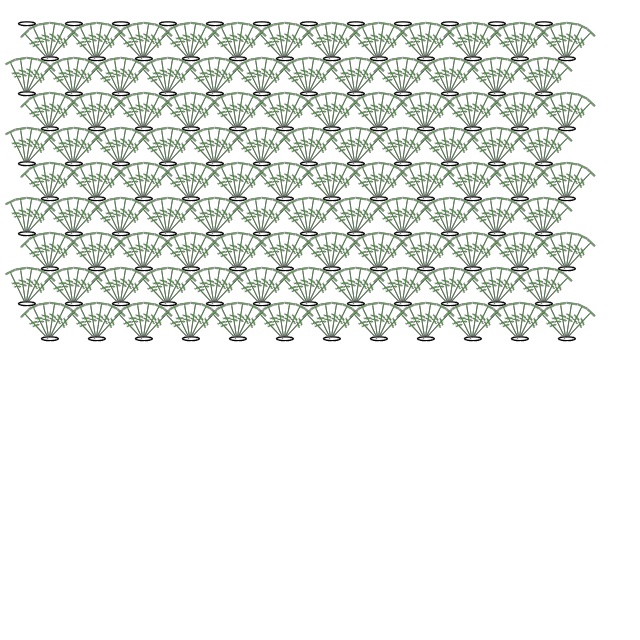chain: (16, 20, 38, 28), (63, 20, 85, 28), (110, 20, 132, 28), (157, 20, 179, 28), (204, 20, 226, 28), (251, 20, 273, 28), (298, 20, 320, 28), (345, 20, 367, 28), (392, 20, 414, 28), (439, 20, 461, 28), (486, 20, 508, 28), (533, 20, 555, 28), (39, 55, 61, 63), (86, 55, 108, 63), (133, 55, 155, 63), (180, 55, 202, 63), (227, 55, 249, 63), (274, 55, 296, 63), (321, 55, 343, 63), (368, 55, 390, 63), (415, 55, 437, 63), (462, 55, 484, 63), (509, 55, 531, 63), (556, 55, 578, 63), (16, 90, 38, 98), (63, 90, 85, 98), (110, 90, 132, 98), (157, 90, 179, 98), (204, 90, 226, 98), (251, 90, 273, 98), (298, 90, 320, 98), (345, 90, 367, 98), (392, 90, 414, 98), (439, 90, 461, 98), (486, 90, 508, 98), (533, 90, 555, 98), (39, 125, 61, 133), (86, 125, 108, 133), (133, 125, 155, 133), (180, 125, 202, 133), (227, 125, 249, 133), (274, 125, 296, 133), (321, 125, 343, 133), (368, 125, 390, 133), (415, 125, 437, 133), (462, 125, 484, 133), (509, 125, 531, 133), (556, 125, 578, 133), (16, 160, 38, 168), (63, 160, 85, 168), (110, 160, 132, 168), (157, 160, 179, 168), (204, 160, 226, 168), (251, 160, 273, 168), (298, 160, 320, 168), (345, 160, 367, 168), (392, 160, 414, 168), (439, 160, 461, 168), (486, 160, 508, 168), (533, 160, 555, 168), (39, 195, 61, 203), (86, 195, 108, 203), (133, 195, 155, 203), (180, 195, 202, 203), (227, 195, 249, 203), (274, 195, 296, 203), (321, 195, 343, 203), (368, 195, 390, 203), (415, 195, 437, 203), (462, 195, 484, 203), (509, 195, 531, 203), (556, 195, 578, 203), (16, 230, 38, 238), (63, 230, 85, 238), (110, 230, 132, 238), (157, 230, 179, 238), (204, 230, 226, 238), (251, 230, 273, 238), (298, 230, 320, 238), (345, 230, 367, 238), (392, 230, 414, 238), (439, 230, 461, 238), (486, 230, 508, 238), (533, 230, 555, 238), (39, 265, 61, 273), (86, 265, 108, 273), (133, 265, 155, 273), (180, 265, 202, 273), (227, 265, 249, 273), (274, 265, 296, 273), (321, 265, 343, 273), (368, 265, 390, 273), (415, 265, 437, 273), (462, 265, 484, 273), (509, 265, 531, 273), (556, 265, 578, 273), (16, 300, 38, 308), (63, 300, 85, 308), (110, 300, 132, 308), (157, 300, 179, 308), (204, 300, 226, 308), (251, 300, 273, 308), (298, 300, 320, 308), (345, 300, 367, 308), (392, 300, 414, 308), (439, 300, 461, 308), (486, 300, 508, 308), (533, 300, 555, 308), (39, 335, 61, 343), (86, 335, 108, 343), (133, 335, 155, 343), (180, 335, 202, 343), (227, 335, 249, 343), (274, 335, 296, 343), (321, 335, 343, 343), (368, 335, 390, 343), (415, 335, 437, 343), (462, 335, 484, 343), (509, 335, 531, 343), (556, 335, 578, 343)
fan: (20, 27, 55, 64), (45, 27, 80, 64), (67, 27, 102, 64), (92, 27, 127, 64), (114, 27, 149, 64), (139, 27, 174, 64), (161, 27, 196, 64), (186, 27, 221, 64), (208, 27, 243, 64), (233, 27, 268, 64), (255, 27, 290, 64), (280, 27, 315, 64), (302, 27, 337, 64), (327, 27, 362, 64), (349, 27, 384, 64), (374, 27, 409, 64), (396, 27, 431, 64), (421, 27, 456, 64), (443, 27, 478, 64), (468, 27, 503, 64), (490, 27, 525, 64), (515, 27, 550, 64), (537, 27, 572, 64), (562, 27, 597, 64), (22, 62, 57, 99), (44, 62, 79, 99), (69, 62, 104, 99), (91, 62, 126, 99), (116, 62, 151, 99), (138, 62, 173, 99), (163, 62, 198, 99), (185, 62, 220, 99), (210, 62, 245, 99), (232, 62, 267, 99), (257, 62, 292, 99), (279, 62, 314, 99), (304, 62, 339, 99), (326, 62, 361, 99), (351, 62, 386, 99), (373, 62, 408, 99), (398, 62, 433, 99), (420, 62, 455, 99), (445, 62, 480, 99), (467, 62, 502, 99), (492, 62, 527, 99), (514, 62, 549, 99), (539, 62, 574, 99), (20, 97, 55, 134), (45, 97, 80, 134), (67, 97, 102, 134), (92, 97, 127, 134), (114, 97, 149, 134), (139, 97, 174, 134), (161, 97, 196, 134), (186, 97, 221, 134), (208, 97, 243, 134), (233, 97, 268, 134), (255, 97, 290, 134), (280, 97, 315, 134), (302, 97, 337, 134), (327, 97, 362, 134), (349, 97, 384, 134), (374, 97, 409, 134), (396, 97, 431, 134), (421, 97, 456, 134), (443, 97, 478, 134), (468, 97, 503, 134), (490, 97, 525, 134), (515, 97, 550, 134), (537, 97, 572, 134), (562, 97, 597, 134), (22, 132, 57, 169), (44, 132, 79, 169), (69, 132, 104, 169), (91, 132, 126, 169), (116, 132, 151, 169), (138, 132, 173, 169), (163, 132, 198, 169), (185, 132, 220, 169), (210, 132, 245, 169), (232, 132, 267, 169), (257, 132, 292, 169), (279, 132, 314, 169), (304, 132, 339, 169), (326, 132, 361, 169), (351, 132, 386, 169), (373, 132, 408, 169), (398, 132, 433, 169), (420, 132, 455, 169), (445, 132, 480, 169), (467, 132, 502, 169), (492, 132, 527, 169), (514, 132, 549, 169), (539, 132, 574, 169), (20, 167, 55, 204), (45, 167, 80, 204), (67, 167, 102, 204), (92, 167, 127, 204), (114, 167, 149, 204), (139, 167, 174, 204), (161, 167, 196, 204), (186, 167, 221, 204), (208, 167, 243, 204), (233, 167, 268, 204), (255, 167, 290, 204), (280, 167, 315, 204), (302, 167, 337, 204), (327, 167, 362, 204), (349, 167, 384, 204), (374, 167, 409, 204), (396, 167, 431, 204), (421, 167, 456, 204), (443, 167, 478, 204), (468, 167, 503, 204), (490, 167, 525, 204), (515, 167, 550, 204), (537, 167, 572, 204), (562, 167, 597, 204), (22, 202, 57, 239), (44, 202, 79, 239), (69, 202, 104, 239), (91, 202, 126, 239), (116, 202, 151, 239), (138, 202, 173, 239), (163, 202, 198, 239), (185, 202, 220, 239), (210, 202, 245, 239), (232, 202, 267, 239), (257, 202, 292, 239), (279, 202, 314, 239), (304, 202, 339, 239), (326, 202, 361, 239), (351, 202, 386, 239), (373, 202, 408, 239), (398, 202, 433, 239), (420, 202, 455, 239), (445, 202, 480, 239), (467, 202, 502, 239), (492, 202, 527, 239), (514, 202, 549, 239), (539, 202, 574, 239), (20, 237, 55, 274), (45, 237, 80, 274), (67, 237, 102, 274), (92, 237, 127, 274), (114, 237, 149, 274), (139, 237, 174, 274), (161, 237, 196, 274), (186, 237, 221, 274), (208, 237, 243, 274), (233, 237, 268, 274), (255, 237, 290, 274), (280, 237, 315, 274), (302, 237, 337, 274), (327, 237, 362, 274), (349, 237, 384, 274), (374, 237, 409, 274), (396, 237, 431, 274), (421, 237, 456, 274), (443, 237, 478, 274), (468, 237, 503, 274), (490, 237, 525, 274), (515, 237, 550, 274), (537, 237, 572, 274), (562, 237, 597, 274), (22, 272, 57, 309), (44, 272, 79, 309), (69, 272, 104, 309), (91, 272, 126, 309), (116, 272, 151, 309), (138, 272, 173, 309), (163, 272, 198, 309), (185, 272, 220, 309), (210, 272, 245, 309), (232, 272, 267, 309), (257, 272, 292, 309), (279, 272, 314, 309), (304, 272, 339, 309), (326, 272, 361, 309), (351, 272, 386, 309), (373, 272, 408, 309), (398, 272, 433, 309), (420, 272, 455, 309), (445, 272, 480, 309), (467, 272, 502, 309), (492, 272, 527, 309), (514, 272, 549, 309), (539, 272, 574, 309), (20, 307, 55, 344), (45, 307, 80, 344), (67, 307, 102, 344), (92, 307, 127, 344), (114, 307, 149, 344), (139, 307, 174, 344), (161, 307, 196, 344), (186, 307, 221, 344), (208, 307, 243, 344), (233, 307, 268, 344), (255, 307, 290, 344), (280, 307, 315, 344), (302, 307, 337, 344), (327, 307, 362, 344), (349, 307, 384, 344), (374, 307, 409, 344), (396, 307, 431, 344), (421, 307, 456, 344), (443, 307, 478, 344), (468, 307, 503, 344), (490, 307, 525, 344), (515, 307, 550, 344), (537, 307, 572, 344), (562, 307, 597, 344), (28, 23, 56, 62), (44, 23, 72, 62), (75, 23, 103, 62), (91, 23, 119, 62), (122, 23, 150, 62), (138, 23, 166, 62), (169, 23, 197, 62), (185, 23, 213, 62), (216, 23, 244, 62), (232, 23, 260, 62), (263, 23, 291, 62), (279, 23, 307, 62), (310, 23, 338, 62), (326, 23, 354, 62), (357, 23, 385, 62), (373, 23, 401, 62), (404, 23, 432, 62), (420, 23, 448, 62), (451, 23, 479, 62), (467, 23, 495, 62), (498, 23, 526, 62), (514, 23, 542, 62), (545, 23, 573, 62), (561, 23, 589, 62), (5, 58, 33, 97), (21, 58, 49, 97), (52, 58, 80, 97), (68, 58, 96, 97), (99, 58, 127, 97), (115, 58, 143, 97), (146, 58, 174, 97), (162, 58, 190, 97), (193, 58, 221, 97), (209, 58, 237, 97), (240, 58, 268, 97), (256, 58, 284, 97), (287, 58, 315, 97), (303, 58, 331, 97), (334, 58, 362, 97), (350, 58, 378, 97), (381, 58, 409, 97), (397, 58, 425, 97), (428, 58, 456, 97), (444, 58, 472, 97), (475, 58, 503, 97), (491, 58, 519, 97), (522, 58, 550, 97), (538, 58, 566, 97), (28, 93, 56, 132), (44, 93, 72, 132), (75, 93, 103, 132), (91, 93, 119, 132), (122, 93, 150, 132), (138, 93, 166, 132), (169, 93, 197, 132), (185, 93, 213, 132), (216, 93, 244, 132), (232, 93, 260, 132), (263, 93, 291, 132), (279, 93, 307, 132), (310, 93, 338, 132), (326, 93, 354, 132), (357, 93, 385, 132), (373, 93, 401, 132), (404, 93, 432, 132), (420, 93, 448, 132), (451, 93, 479, 132), (467, 93, 495, 132), (498, 93, 526, 132), (514, 93, 542, 132), (545, 93, 573, 132), (561, 93, 589, 132), (5, 128, 33, 167), (21, 128, 49, 167), (52, 128, 80, 167), (68, 128, 96, 167), (99, 128, 127, 167), (115, 128, 143, 167), (146, 128, 174, 167), (162, 128, 190, 167), (193, 128, 221, 167), (209, 128, 237, 167), (240, 128, 268, 167), (256, 128, 284, 167), (287, 128, 315, 167), (303, 128, 331, 167), (334, 128, 362, 167), (350, 128, 378, 167), (381, 128, 409, 167), (397, 128, 425, 167), (428, 128, 456, 167), (444, 128, 472, 167), (475, 128, 503, 167), (491, 128, 519, 167), (522, 128, 550, 167), (538, 128, 566, 167), (28, 163, 56, 202), (44, 163, 72, 202), (75, 163, 103, 202), (91, 163, 119, 202), (122, 163, 150, 202), (138, 163, 166, 202), (169, 163, 197, 202), (185, 163, 213, 202), (216, 163, 244, 202), (232, 163, 260, 202), (263, 163, 291, 202), (279, 163, 307, 202), (310, 163, 338, 202), (326, 163, 354, 202), (357, 163, 385, 202), (373, 163, 401, 202), (404, 163, 432, 202), (420, 163, 448, 202), (451, 163, 479, 202), (467, 163, 495, 202), (498, 163, 526, 202), (514, 163, 542, 202), (545, 163, 573, 202), (561, 163, 589, 202), (5, 198, 33, 237), (21, 198, 49, 237), (52, 198, 80, 237), (68, 198, 96, 237), (99, 198, 127, 237), (115, 198, 143, 237), (146, 198, 174, 237), (162, 198, 190, 237), (193, 198, 221, 237), (209, 198, 237, 237), (240, 198, 268, 237), (256, 198, 284, 237), (287, 198, 315, 237), (303, 198, 331, 237), (334, 198, 362, 237), (350, 198, 378, 237), (381, 198, 409, 237), (397, 198, 425, 237), (428, 198, 456, 237), (444, 198, 472, 237), (475, 198, 503, 237), (491, 198, 519, 237), (522, 198, 550, 237), (538, 198, 566, 237), (28, 233, 56, 272), (44, 233, 72, 272), (75, 233, 103, 272), (91, 233, 119, 272), (122, 233, 150, 272), (138, 233, 166, 272), (169, 233, 197, 272), (185, 233, 213, 272), (216, 233, 244, 272), (232, 233, 260, 272), (263, 233, 291, 272), (279, 233, 307, 272), (310, 233, 338, 272), (326, 233, 354, 272), (357, 233, 385, 272), (373, 233, 401, 272), (404, 233, 432, 272), (420, 233, 448, 272), (451, 233, 479, 272), (467, 233, 495, 272), (498, 233, 526, 272), (514, 233, 542, 272), (545, 233, 573, 272), (561, 233, 589, 272), (5, 268, 33, 307), (21, 268, 49, 307), (52, 268, 80, 307), (68, 268, 96, 307), (99, 268, 127, 307), (115, 268, 143, 307), (146, 268, 174, 307), (162, 268, 190, 307), (193, 268, 221, 307), (209, 268, 237, 307), (240, 268, 268, 307), (256, 268, 284, 307), (287, 268, 315, 307), (303, 268, 331, 307), (334, 268, 362, 307), (350, 268, 378, 307), (381, 268, 409, 307), (397, 268, 425, 307), (428, 268, 456, 307), (444, 268, 472, 307), (475, 268, 503, 307), (491, 268, 519, 307), (522, 268, 550, 307), (538, 268, 566, 307), (28, 303, 56, 342), (44, 303, 72, 342), (75, 303, 103, 342), (91, 303, 119, 342), (122, 303, 150, 342), (138, 303, 166, 342), (169, 303, 197, 342), (185, 303, 213, 342), (216, 303, 244, 342), (232, 303, 260, 342), (263, 303, 291, 342), (279, 303, 307, 342), (310, 303, 338, 342), (326, 303, 354, 342), (357, 303, 385, 342), (373, 303, 401, 342), (404, 303, 432, 342), (420, 303, 448, 342), (451, 303, 479, 342), (467, 303, 495, 342), (498, 303, 526, 342), (514, 303, 542, 342), (545, 303, 573, 342), (561, 303, 589, 342), (38, 21, 57, 60), (43, 21, 62, 60), (85, 21, 104, 60), (90, 21, 109, 60), (132, 21, 151, 60), (137, 21, 156, 60), (179, 21, 198, 60), (184, 21, 203, 60), (226, 21, 245, 60), (231, 21, 250, 60), (273, 21, 292, 60), (278, 21, 297, 60), (320, 21, 339, 60), (325, 21, 344, 60), (367, 21, 386, 60), (372, 21, 391, 60), (414, 21, 433, 60), (419, 21, 438, 60), (461, 21, 480, 60), (466, 21, 485, 60), (508, 21, 527, 60), (513, 21, 532, 60), (555, 21, 574, 60), (560, 21, 579, 60), (15, 56, 34, 95), (20, 56, 39, 95), (62, 56, 81, 95), (67, 56, 86, 95), (109, 56, 128, 95), (114, 56, 133, 95), (156, 56, 175, 95), (161, 56, 180, 95), (203, 56, 222, 95), (208, 56, 227, 95), (250, 56, 269, 95), (255, 56, 274, 95), (297, 56, 316, 95), (302, 56, 321, 95), (344, 56, 363, 95), (349, 56, 368, 95), (391, 56, 410, 95), (396, 56, 415, 95), (438, 56, 457, 95), (443, 56, 462, 95), (485, 56, 504, 95), (490, 56, 509, 95), (532, 56, 551, 95), (537, 56, 556, 95), (38, 91, 57, 130), (43, 91, 62, 130), (85, 91, 104, 130), (90, 91, 109, 130), (132, 91, 151, 130), (137, 91, 156, 130), (179, 91, 198, 130), (184, 91, 203, 130), (226, 91, 245, 130), (231, 91, 250, 130), (273, 91, 292, 130), (278, 91, 297, 130), (320, 91, 339, 130), (325, 91, 344, 130), (367, 91, 386, 130), (372, 91, 391, 130), (414, 91, 433, 130), (419, 91, 438, 130), (461, 91, 480, 130), (466, 91, 485, 130), (508, 91, 527, 130), (513, 91, 532, 130), (555, 91, 574, 130), (560, 91, 579, 130), (15, 126, 34, 165), (20, 126, 39, 165), (62, 126, 81, 165), (67, 126, 86, 165), (109, 126, 128, 165), (114, 126, 133, 165), (156, 126, 175, 165), (161, 126, 180, 165), (203, 126, 222, 165), (208, 126, 227, 165), (250, 126, 269, 165), (255, 126, 274, 165), (297, 126, 316, 165), (302, 126, 321, 165), (344, 126, 363, 165), (349, 126, 368, 165), (391, 126, 410, 165), (396, 126, 415, 165), (438, 126, 457, 165), (443, 126, 462, 165), (485, 126, 504, 165), (490, 126, 509, 165), (532, 126, 551, 165), (537, 126, 556, 165), (38, 161, 57, 200), (43, 161, 62, 200), (85, 161, 104, 200), (90, 161, 109, 200), (132, 161, 151, 200), (137, 161, 156, 200), (179, 161, 198, 200), (184, 161, 203, 200), (226, 161, 245, 200), (231, 161, 250, 200), (273, 161, 292, 200), (278, 161, 297, 200), (320, 161, 339, 200), (325, 161, 344, 200), (367, 161, 386, 200), (372, 161, 391, 200), (414, 161, 433, 200), (419, 161, 438, 200), (461, 161, 480, 200), (466, 161, 485, 200), (508, 161, 527, 200), (513, 161, 532, 200), (555, 161, 574, 200), (560, 161, 579, 200), (15, 196, 34, 235), (20, 196, 39, 235), (62, 196, 81, 235), (67, 196, 86, 235), (109, 196, 128, 235), (114, 196, 133, 235), (156, 196, 175, 235), (161, 196, 180, 235), (203, 196, 222, 235), (208, 196, 227, 235), (250, 196, 269, 235), (255, 196, 274, 235), (297, 196, 316, 235), (302, 196, 321, 235), (344, 196, 363, 235), (349, 196, 368, 235), (391, 196, 410, 235), (396, 196, 415, 235), (438, 196, 457, 235), (443, 196, 462, 235), (485, 196, 504, 235), (490, 196, 509, 235), (532, 196, 551, 235), (537, 196, 556, 235), (38, 231, 57, 270), (43, 231, 62, 270), (85, 231, 104, 270), (90, 231, 109, 270), (132, 231, 151, 270), (137, 231, 156, 270), (179, 231, 198, 270), (184, 231, 203, 270), (226, 231, 245, 270), (231, 231, 250, 270), (273, 231, 292, 270), (278, 231, 297, 270), (320, 231, 339, 270), (325, 231, 344, 270), (367, 231, 386, 270), (372, 231, 391, 270), (414, 231, 433, 270), (419, 231, 438, 270), (461, 231, 480, 270), (466, 231, 485, 270), (508, 231, 527, 270), (513, 231, 532, 270), (555, 231, 574, 270), (560, 231, 579, 270), (15, 266, 34, 305), (20, 266, 39, 305), (62, 266, 81, 305), (67, 266, 86, 305), (109, 266, 128, 305), (114, 266, 133, 305), (156, 266, 175, 305), (161, 266, 180, 305), (203, 266, 222, 305), (208, 266, 227, 305), (250, 266, 269, 305), (255, 266, 274, 305), (297, 266, 316, 305), (302, 266, 321, 305), (344, 266, 363, 305), (349, 266, 368, 305), (391, 266, 410, 305), (396, 266, 415, 305), (438, 266, 457, 305), (443, 266, 462, 305), (485, 266, 504, 305), (490, 266, 509, 305), (532, 266, 551, 305), (537, 266, 556, 305), (38, 301, 57, 340), (43, 301, 62, 340), (85, 301, 104, 340), (90, 301, 109, 340), (132, 301, 151, 340), (137, 301, 156, 340), (179, 301, 198, 340), (184, 301, 203, 340), (226, 301, 245, 340), (231, 301, 250, 340), (273, 301, 292, 340), (278, 301, 297, 340), (320, 301, 339, 340), (325, 301, 344, 340), (367, 301, 386, 340), (372, 301, 391, 340), (414, 301, 433, 340), (419, 301, 438, 340), (461, 301, 480, 340), (466, 301, 485, 340), (508, 301, 527, 340), (513, 301, 532, 340), (555, 301, 574, 340), (560, 301, 579, 340)
